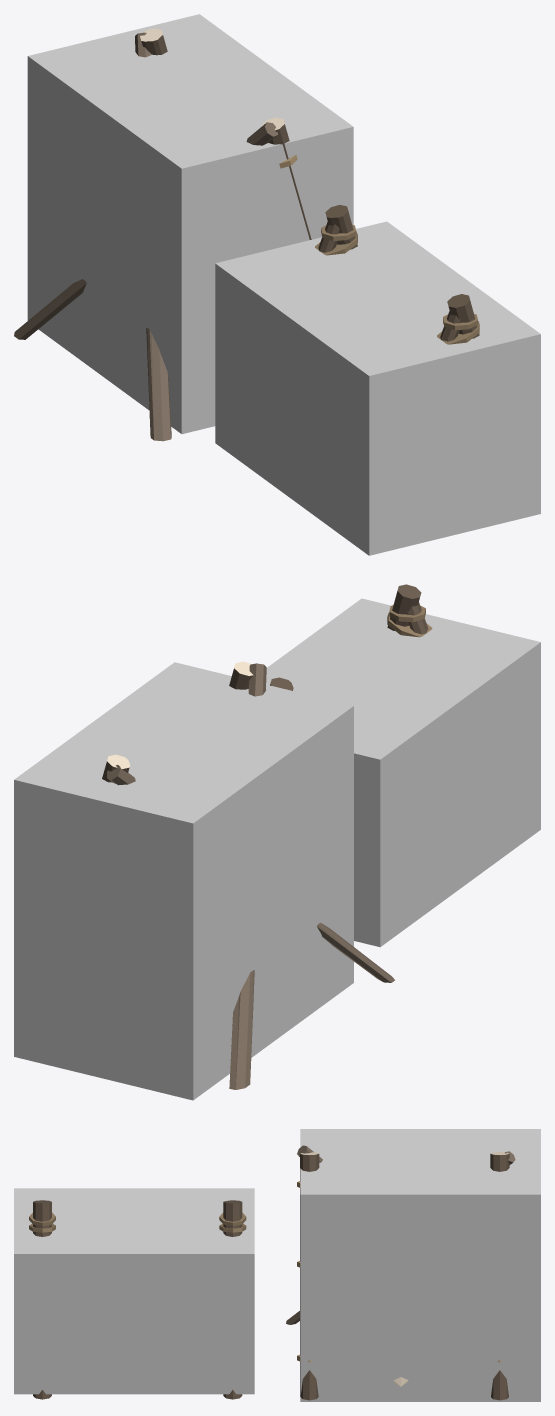
Rendered from leather_racks.glb.
3 views of the same model, one above another, from view 1: azimuth 30°, elevation 25°; view 2: azimuth 150°, elevation 25°; view 3: azimuth 270°, elevation 25° (orthographic). The views are drawn at different scales.
Visible parts, largest first — view 1: Cube.001, Cube, pelages; view 2: Cube.001, Cube, pelages; view 3: Cube.001, Cube, pelages.
Part boxes in pixels (x1,y1,x2,y2): Cube.001: [27, 14, 353, 434]; Cube: [215, 221, 540, 555]; pelages: [14, 28, 479, 441]; Cube.001: [14, 662, 353, 1100]; Cube: [266, 598, 540, 947]; pelages: [102, 584, 432, 1089]; Cube.001: [300, 1129, 540, 1401]; Cube: [14, 1188, 254, 1394]; pelages: [29, 1145, 515, 1400].
Size of the model in its own units: 2.5 by 3.2 by 6.8.
1 material, 1 textured.
